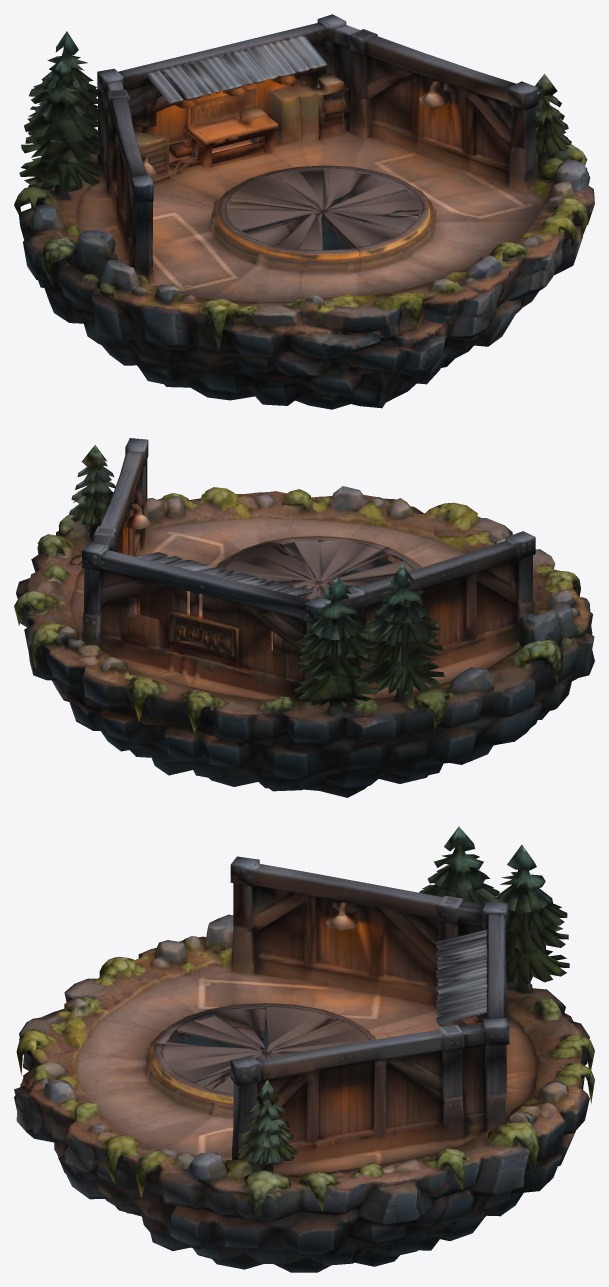
The model's file is LL_Garage.fbx.
3 renders of one model, top to bottom at view 1: azimuth 30°, elevation 25°; view 2: azimuth 150°, elevation 25°; view 3: azimuth 270°, elevation 25°, orthographic. The views are drawn at different scales.
Visible parts, largest first — view 1: tripo_node_93a17d75; view 2: tripo_node_93a17d75; view 3: tripo_node_93a17d75.
Part boxes in pixels (left/top/right/bottom): tripo_node_93a17d75: left=14, top=14, right=594, bottom=409; tripo_node_93a17d75: left=14, top=438, right=594, bottom=797; tripo_node_93a17d75: left=14, top=826, right=594, bottom=1272.
Bounding box in the file's own units: 97.78 × 88.2 × 47.64.
Materials: 1 (1 with a texture image).
